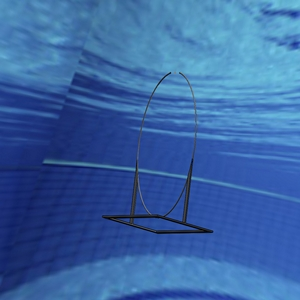circle: (101, 71, 214, 234)
